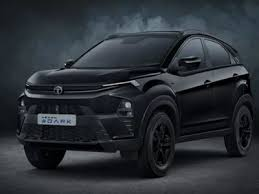Tata Nexon: (13, 29, 254, 177)
